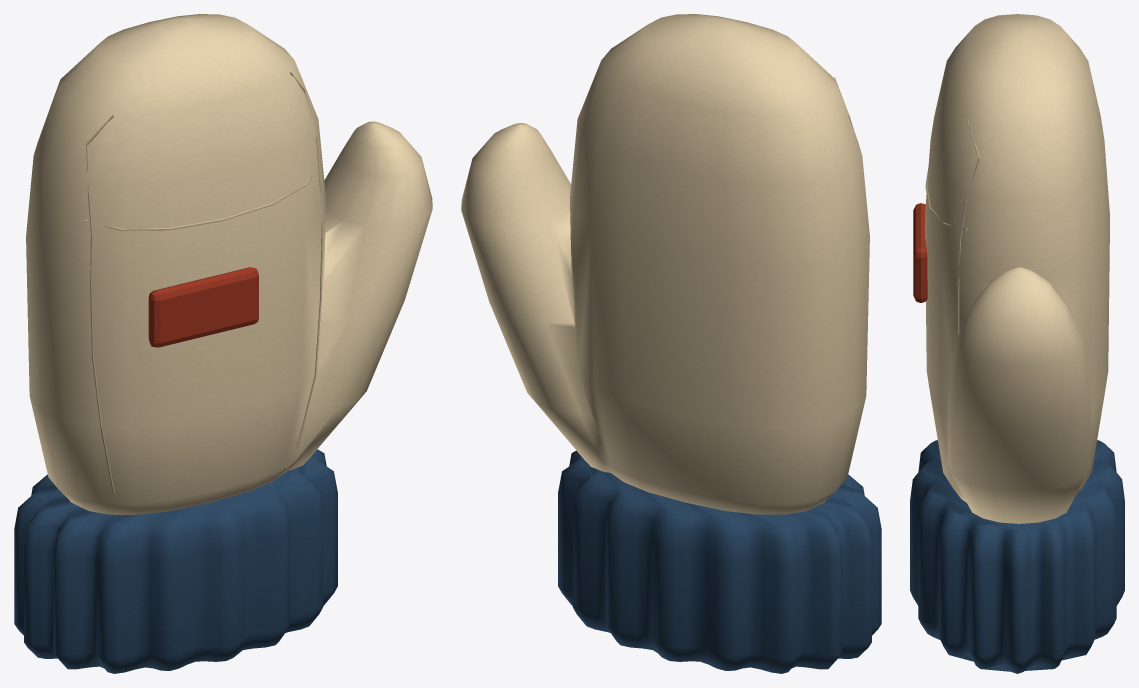
Rendered from PM_Mitten_Left.fbx.
3 views of the same model, side by side, from view 1: azimuth 30°, elevation 25°; view 2: azimuth 150°, elevation 25°; view 3: azimuth 270°, elevation 25° (orthographic). The views are drawn at different scales.
Parts seen in each view (by area): view 1: PM_Mitten_Left; view 2: PM_Mitten_Left; view 3: PM_Mitten_Left.
Part boxes in pixels (left/top/right/bottom): PM_Mitten_Left: left=14, top=14, right=432, bottom=673; PM_Mitten_Left: left=461, top=14, right=881, bottom=673; PM_Mitten_Left: left=910, top=14, right=1124, bottom=673.
Bounding box in the file's own units: 23.55 × 33.67 × 11.35.
1 material, 1 textured.
